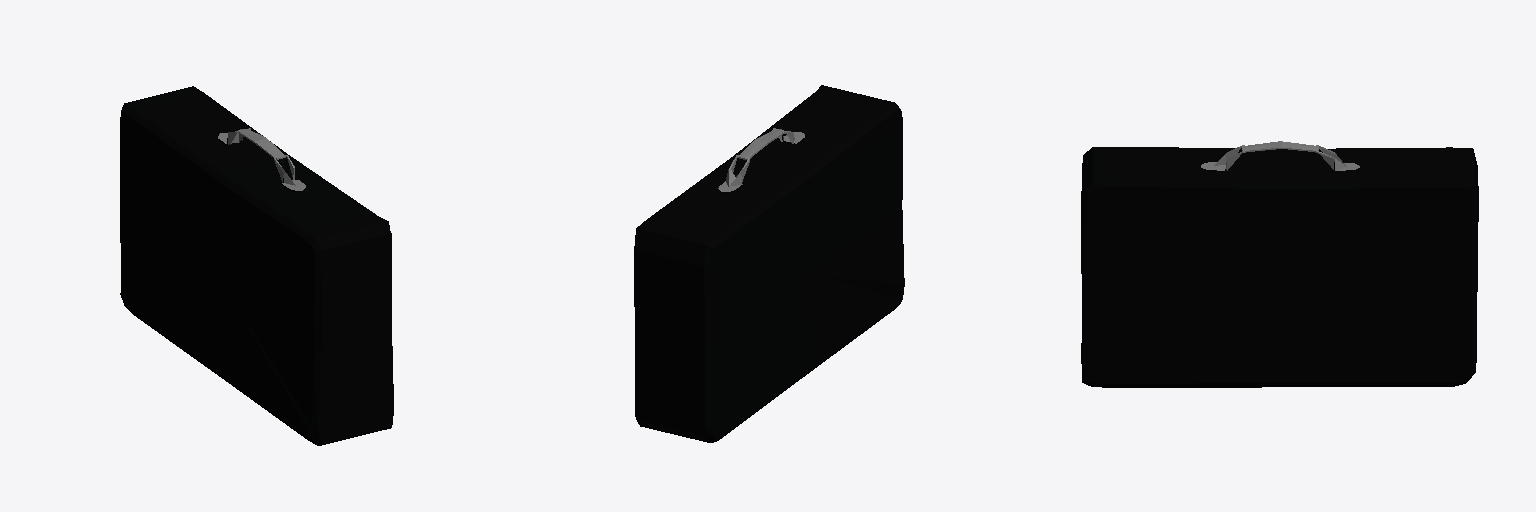
File: suitcase_gray.obj
3 views of the same model, side by side, from view 1: azimuth 30°, elevation 25°; view 2: azimuth 150°, elevation 25°; view 3: azimuth 270°, elevation 25° (orthographic).
Visible parts, largest first — view 1: kofer.001; view 2: kofer.001; view 3: kofer.001.
Part boxes in pixels (x1,y1,x2,y2): kofer.001: (120, 86, 393, 445); kofer.001: (634, 85, 904, 442); kofer.001: (1081, 141, 1478, 387).
Size of the model in its own units: 0.0078 by 0.0212 by 0.0334.